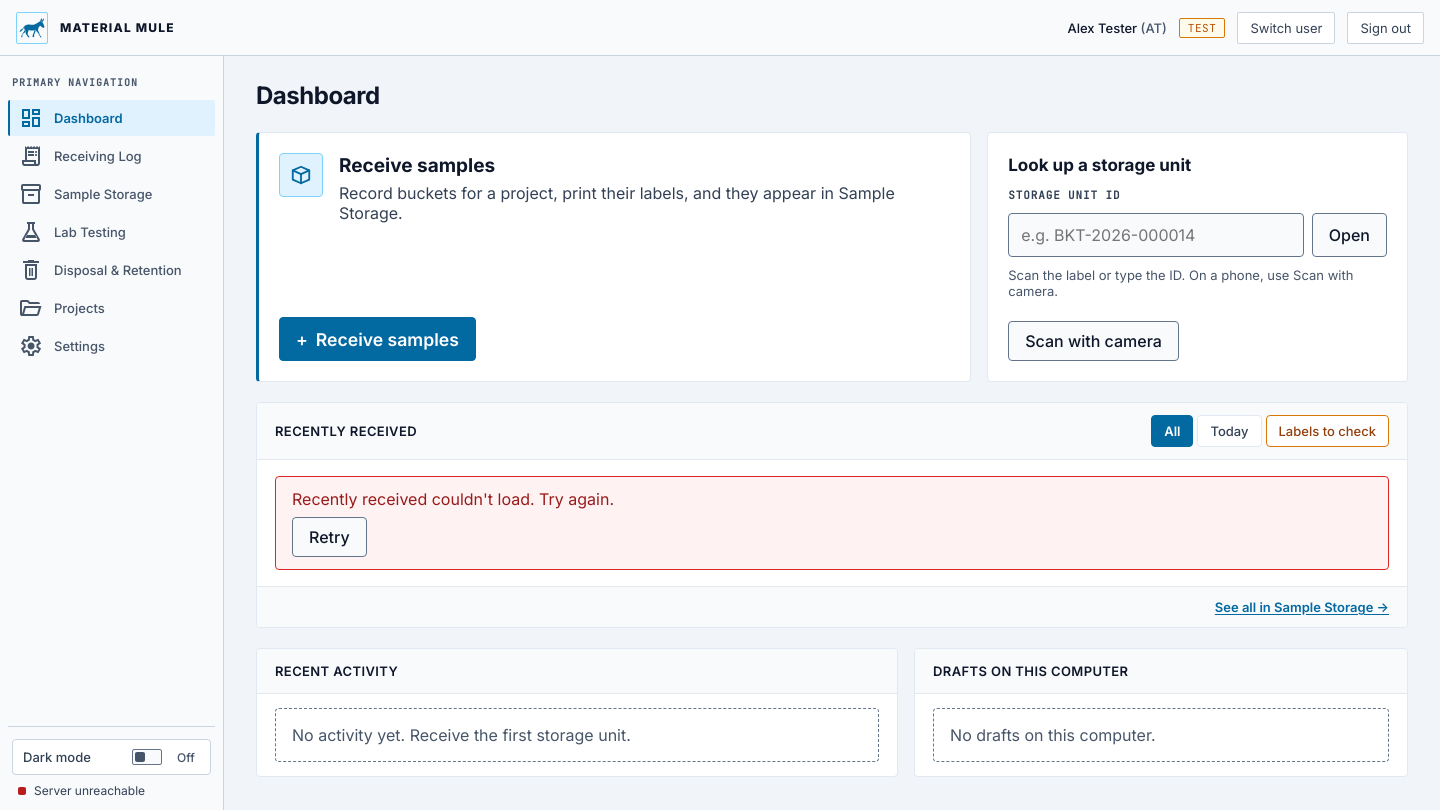
Scenario: Dashboard › Recently received shows a retryable error
Expected: the text "Recently received couldn't load. Try again." is shown, top-left (292, 489), bottom-right (614, 509)
Click the button "Retry". click: (329, 537)
box: top-left (292, 517), bottom-right (367, 557)
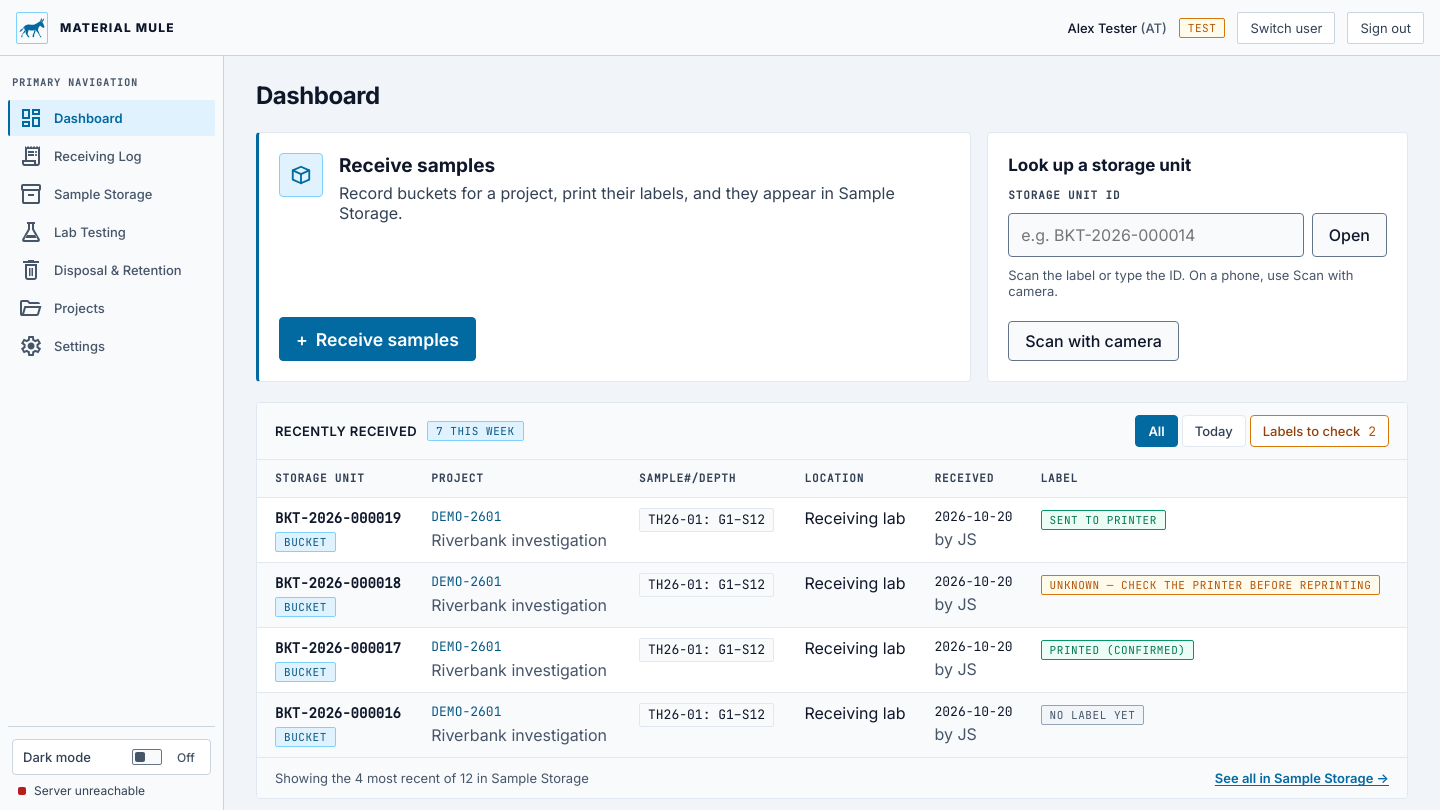
Now the table is shown, box top-left (257, 460), bottom-right (1407, 757)
